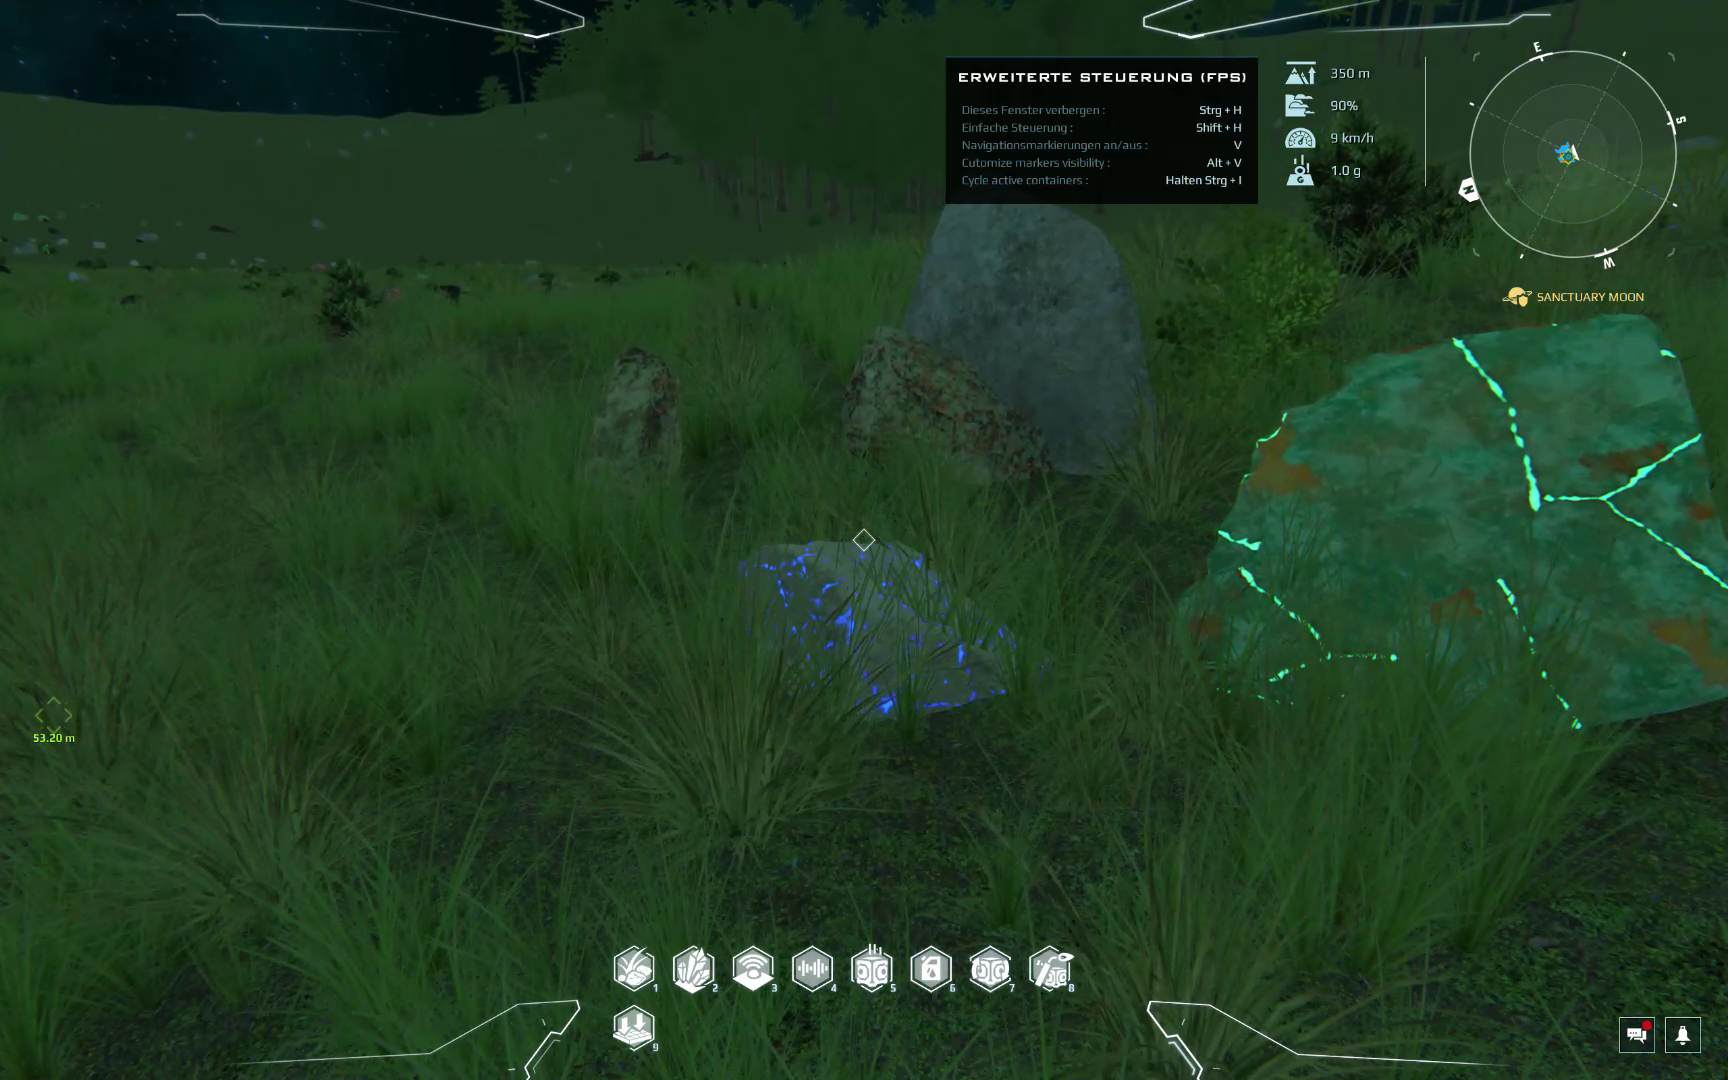Ore: (1166, 311, 1728, 743), (722, 541, 1056, 715), (841, 324, 1052, 501), (580, 348, 692, 504)
